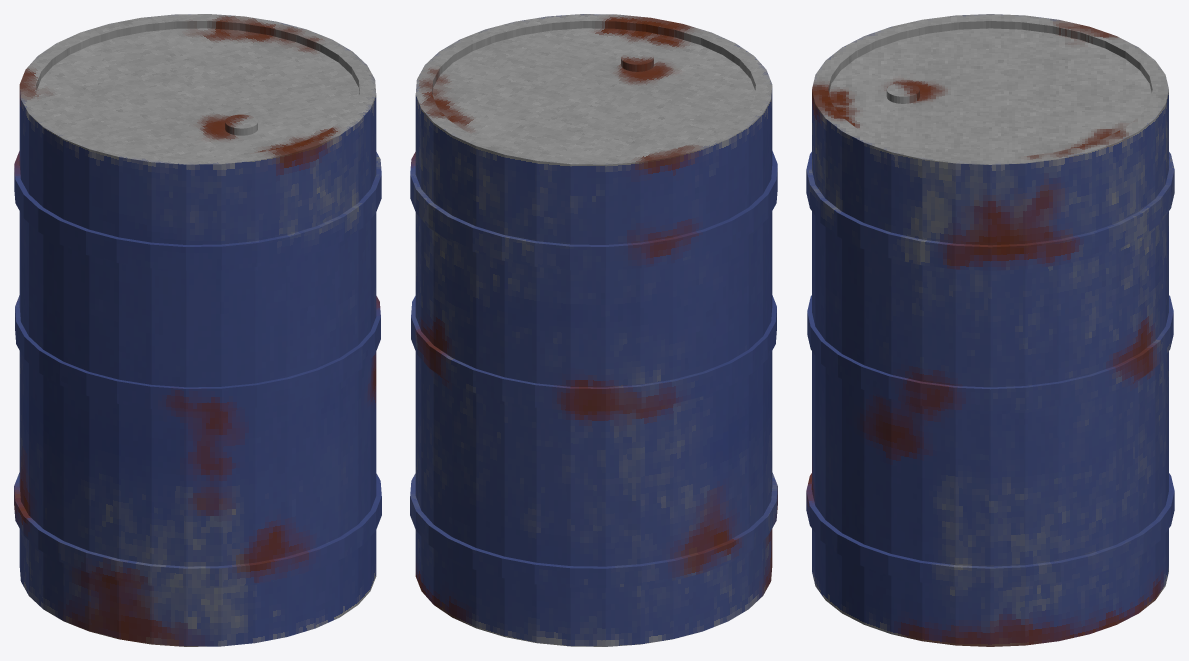
File: PIG_barrel.glb
3 views of the same model, side by side, from view 1: azimuth 30°, elevation 25°; view 2: azimuth 150°, elevation 25°; view 3: azimuth 270°, elevation 25° (orthographic).
Visible parts, largest first — view 1: Cylinder; view 2: Cylinder; view 3: Cylinder.
Boxes of the visible parts, bbox=[...] form: Cylinder: bbox=[14, 14, 381, 646]; Cylinder: bbox=[410, 14, 777, 646]; Cylinder: bbox=[806, 14, 1174, 646].
Size of the model in its own units: 4.11 by 5.93 by 4.11.
Materials: 1 (1 with a texture image).
